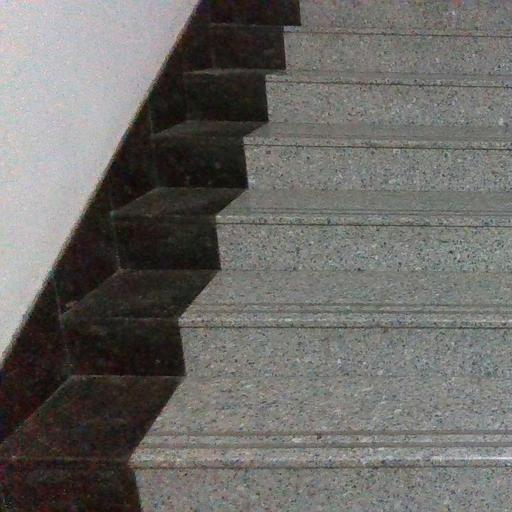stairs: (64, 0, 511, 511)
